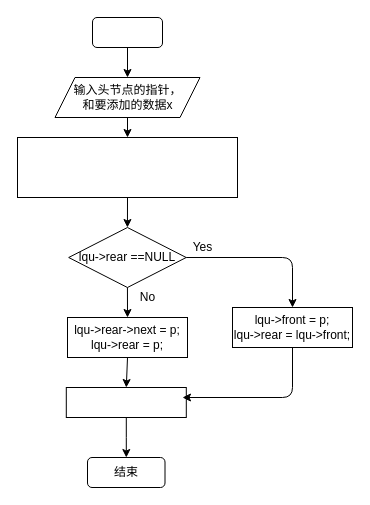
This 370x505 diagram has some shape labels left out. The centre of each missing label's shape, as x and y in pixels:
"QNode *p; p = (QNode *)Malloy (sizeof(QNode)); p->data = x; p->next = NULL;" goes at point (127, 167).
"return lqu;" goes at point (125, 402).
"开始" goes at point (127, 32).
